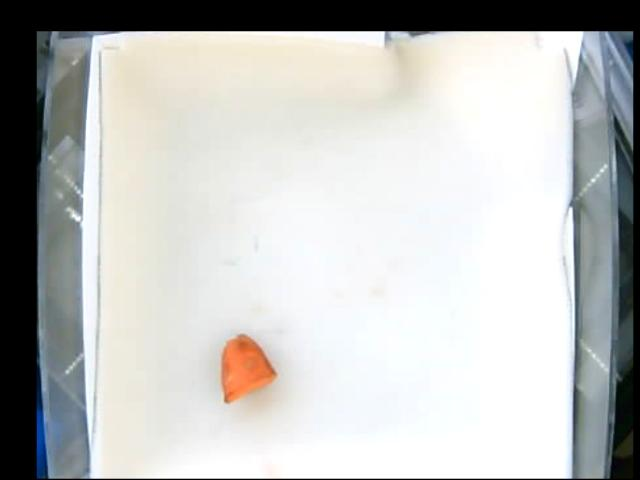Carrot: (223, 332, 273, 403)
